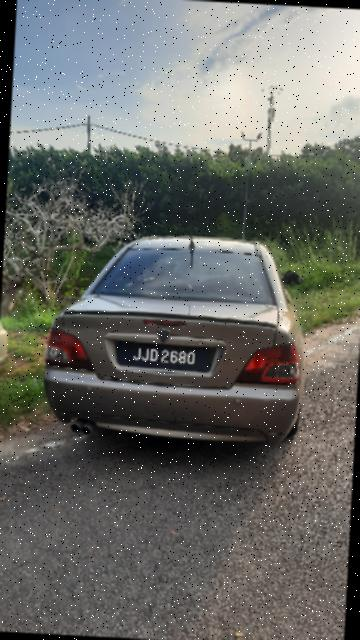License_Plate: (115, 323, 230, 381)
car: (35, 219, 322, 476)
